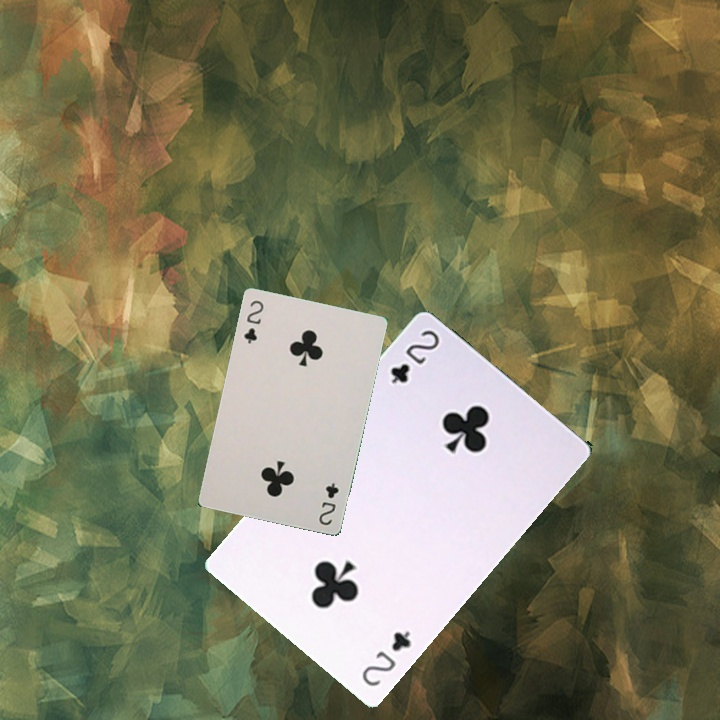2c: (357, 626, 414, 689), (386, 325, 443, 387), (239, 296, 266, 346), (315, 478, 341, 528)
